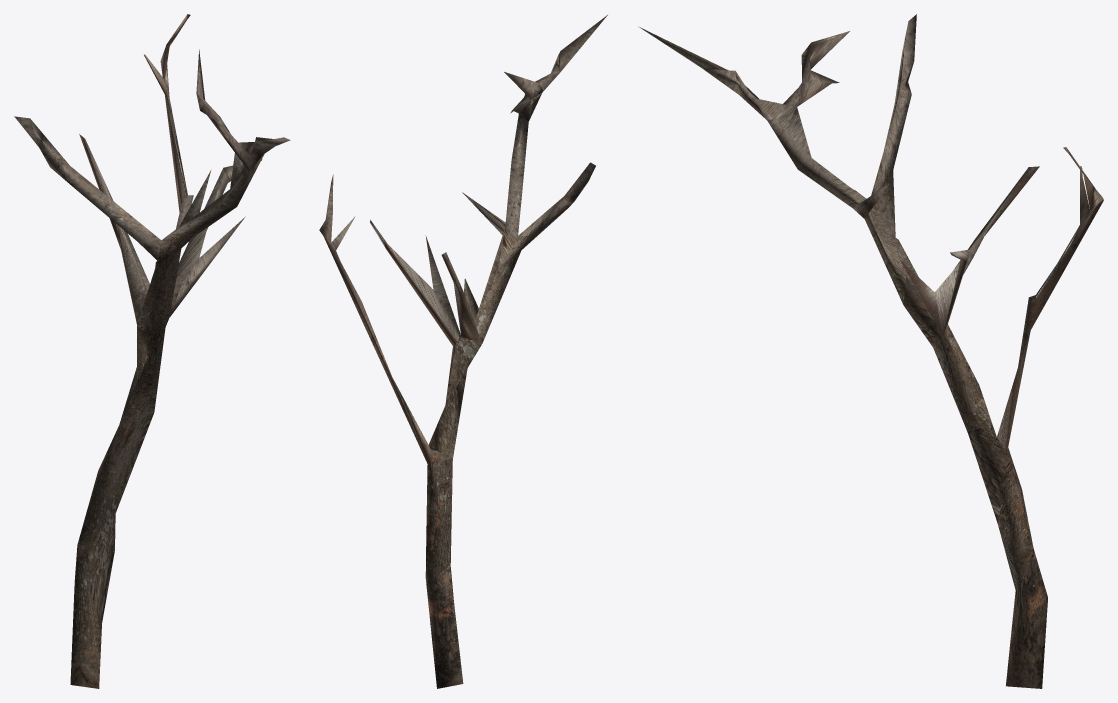
File: tree_small_02_1k-far.fbx
The picture shows the model from 3 angles, left to right: view 1: azimuth 30°, elevation 25°; view 2: azimuth 150°, elevation 25°; view 3: azimuth 270°, elevation 25°; orthographic projection. The views are drawn at different scales.
Parts seen in each view (by area): view 1: tree_small_02; view 2: tree_small_02; view 3: tree_small_02.
Part boxes in pixels (bbox=[...]): tree_small_02: bbox=[14, 14, 290, 688]; tree_small_02: bbox=[319, 15, 607, 688]; tree_small_02: bbox=[638, 14, 1103, 688].
Bounding box in the file's own units: 138 × 347 × 220.
